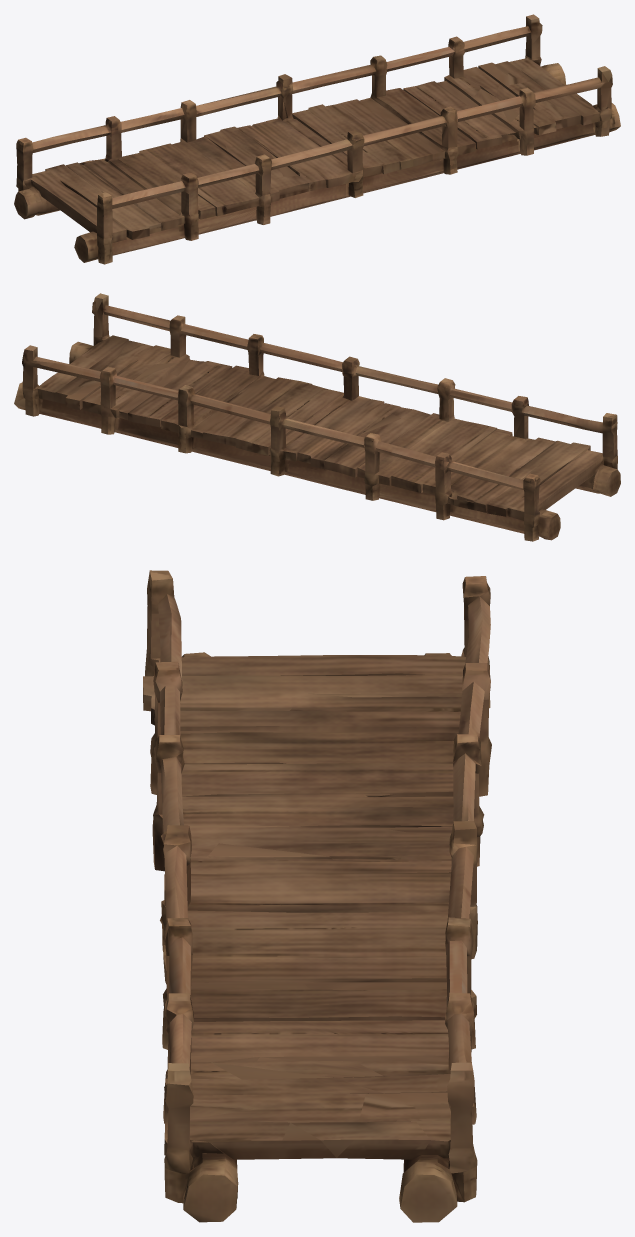
File: wood-footbridge-model.glb
3 renders of one model, top to bottom at view 1: azimuth 30°, elevation 25°; view 2: azimuth 150°, elevation 25°; view 3: azimuth 270°, elevation 25°, orthographic. The views are drawn at different scales.
Visible parts, largest first — view 1: wood-footbridge.001; view 2: wood-footbridge.001; view 3: wood-footbridge.001.
Part boxes in pixels (left/top/right/bottom): wood-footbridge.001: left=14, top=14, right=620, bottom=264; wood-footbridge.001: left=14, top=293, right=620, bottom=541; wood-footbridge.001: left=143, top=570, right=491, bottom=1222.
Size of the model in its own units: 11 by 1.36 by 3.1.
Materials: 1 (1 with a texture image).
